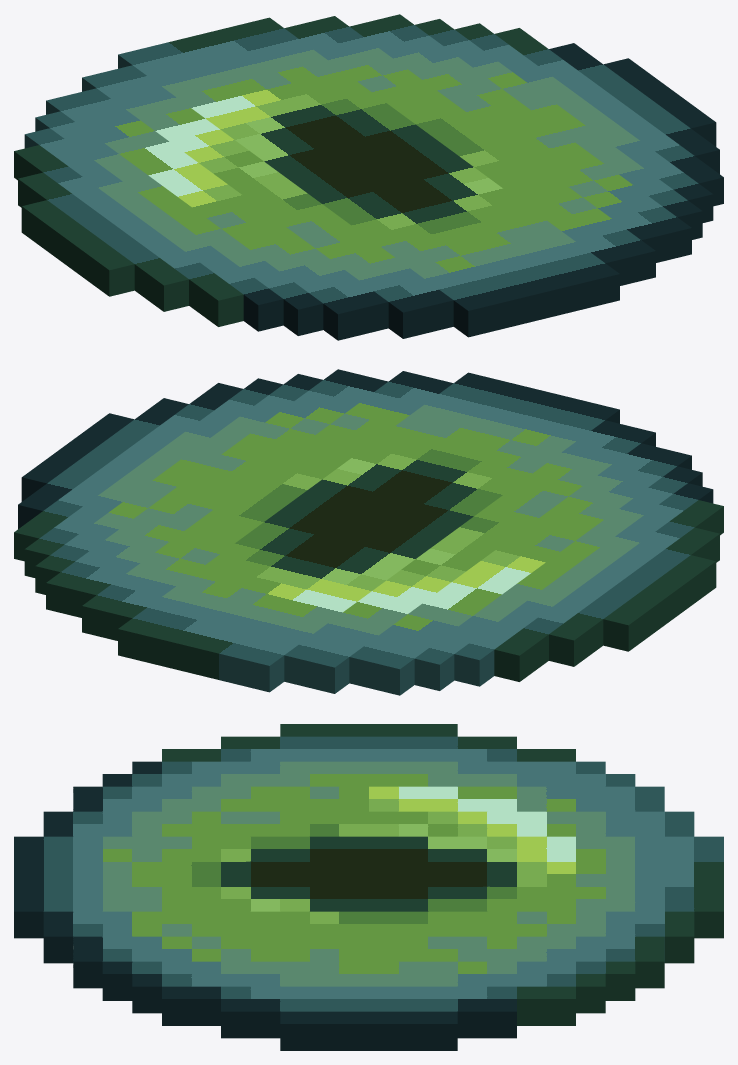
File: SM_EyeofEnder_01.fbx
3 renders of one model, top to bottom at view 1: azimuth 30°, elevation 25°; view 2: azimuth 150°, elevation 25°; view 3: azimuth 270°, elevation 25°, orthographic.
Parts seen in each view (by area): view 1: T_EyeofEnder_0; view 2: T_EyeofEnder_0; view 3: T_EyeofEnder_0.
Boxes of the visible parts, x1,y1,x2,y2 form: T_EyeofEnder_0: [14, 14, 723, 340]; T_EyeofEnder_0: [14, 369, 723, 695]; T_EyeofEnder_0: [14, 724, 723, 1050].
Size of the model in its own units: 80.86 by 3.37 by 80.86.
Materials: 1 (1 with a texture image).
